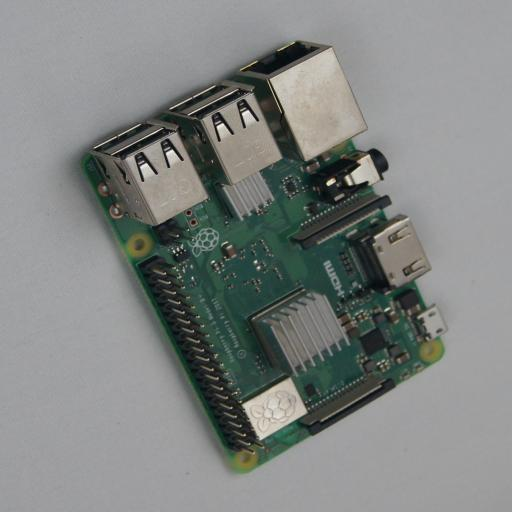Raspberry Pi 3 B-: (70, 40, 444, 466)
